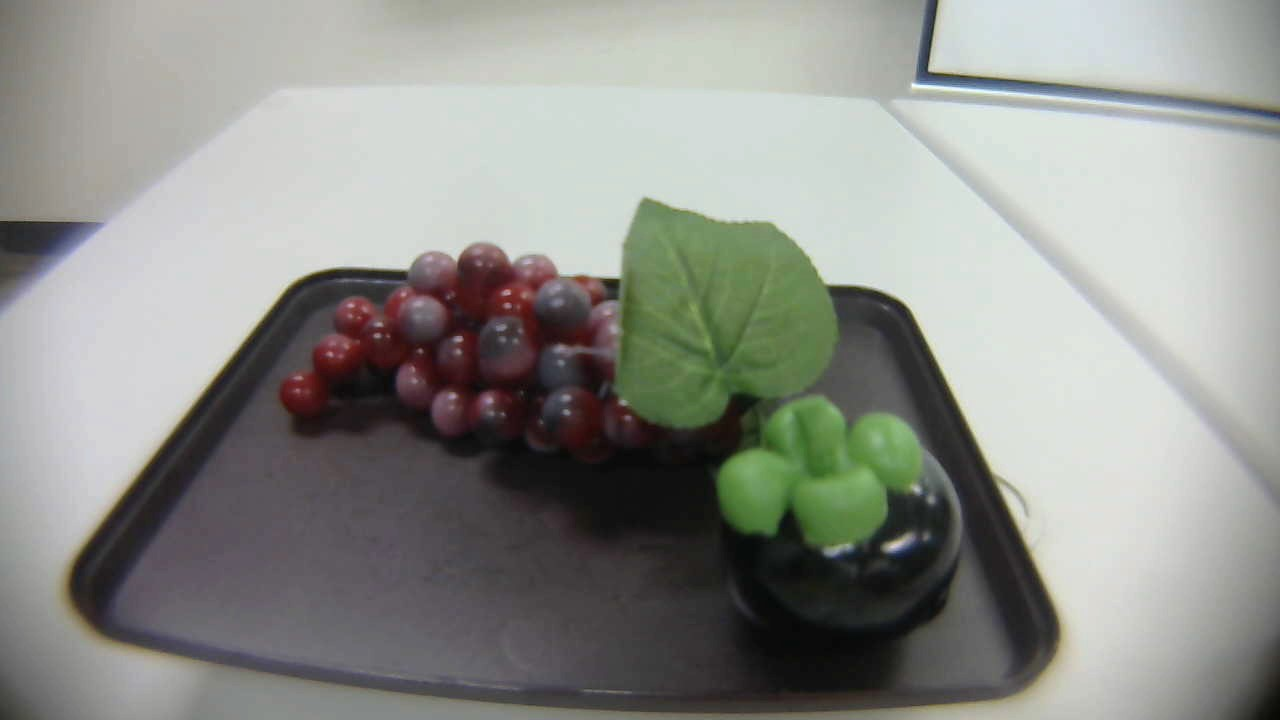grape: (269, 175, 842, 489)
mangosteen: (717, 393, 963, 643)
